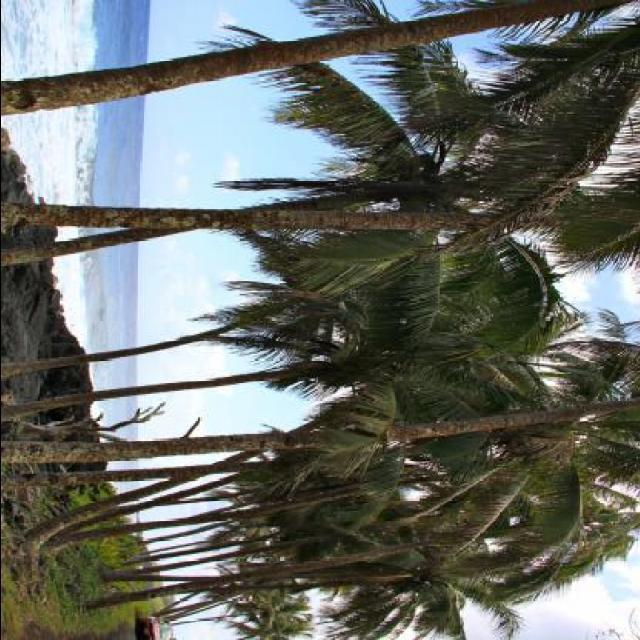Coconut: (499, 434, 555, 460)
